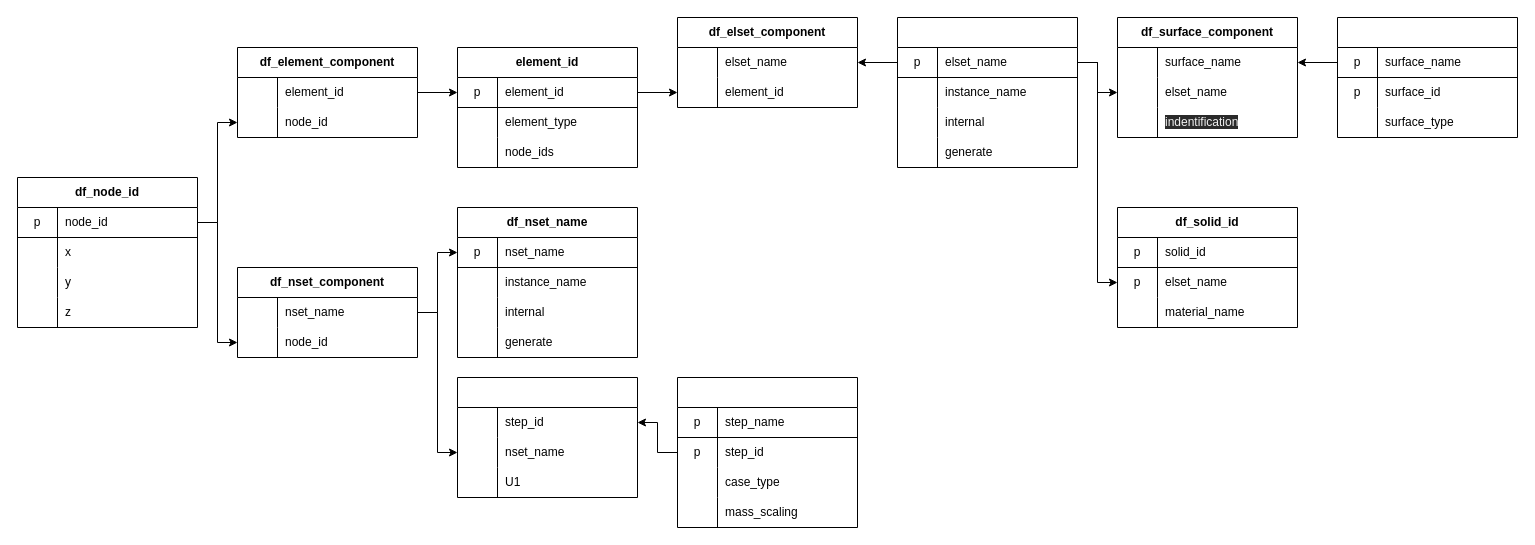
Some shapes in this 1535 by 545 pixel diagram are drawn without their labels. The box of each missing label's shape, as (x1, y1, x2, y2) in pixels:
df_boundary: (456, 376, 638, 498)
df_elset_name: (896, 16, 1078, 168)
df_step_name: (676, 376, 858, 528)
df_surface_name: (1336, 16, 1518, 138)
